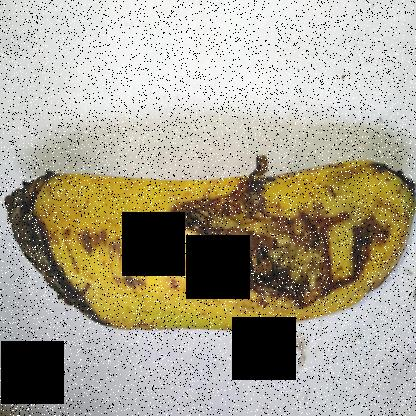rotten: (170, 124, 392, 351), (0, 137, 114, 354)
